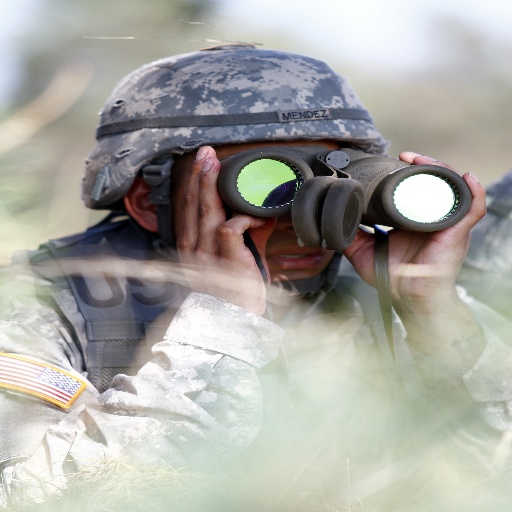hand: (338, 148, 489, 311), (174, 144, 262, 311)
